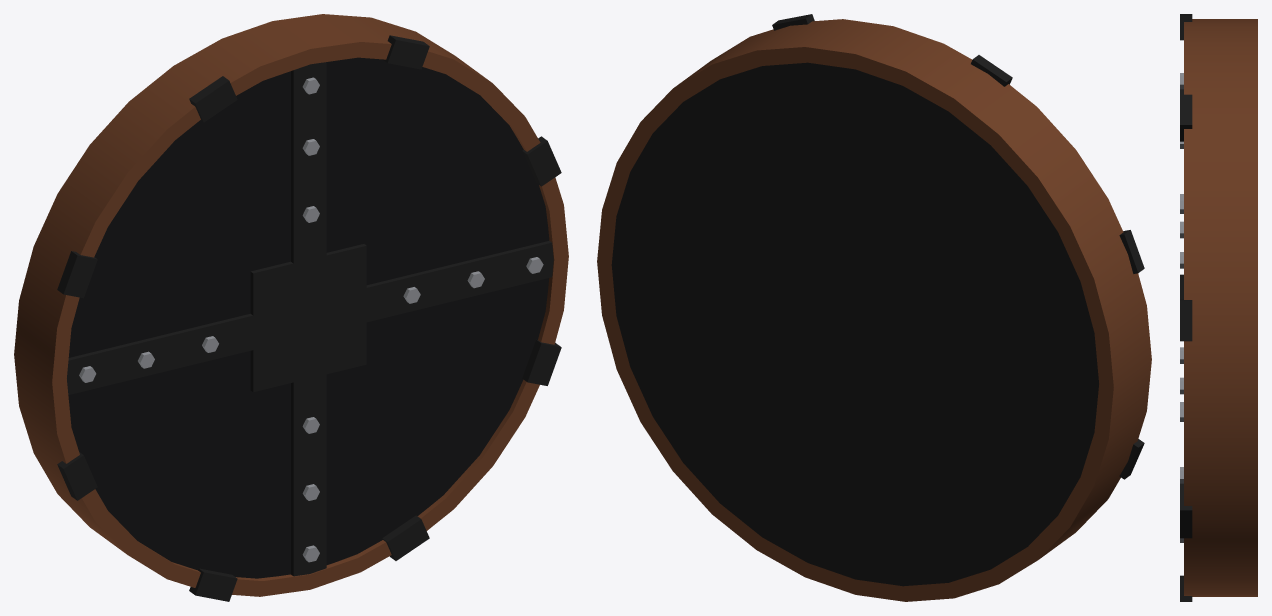
File: engine_hot_emitter_annulus.obj
3 renders of one model, left to right at view 1: azimuth 30°, elevation 25°; view 2: azimuth 150°, elevation 25°; view 3: azimuth 270°, elevation 25°, orthographic. The views are drawn at different scales.
Visible parts, largest first — view 1: engine_hot_emitter_annulus; view 2: engine_hot_emitter_annulus; view 3: engine_hot_emitter_annulus.
Part boxes in pixels (x1,y1,x2,y2): engine_hot_emitter_annulus: (14, 14, 568, 601); engine_hot_emitter_annulus: (597, 14, 1151, 601); engine_hot_emitter_annulus: (1180, 14, 1257, 601).
Bounding box in the file's own units: 2.82 × 2.82 × 0.38.
